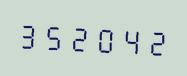five: (42, 17, 66, 54)
four: (118, 21, 142, 58)
three: (17, 16, 41, 53)
two: (68, 18, 92, 55), (143, 22, 167, 59)
zero: (93, 20, 117, 57)
